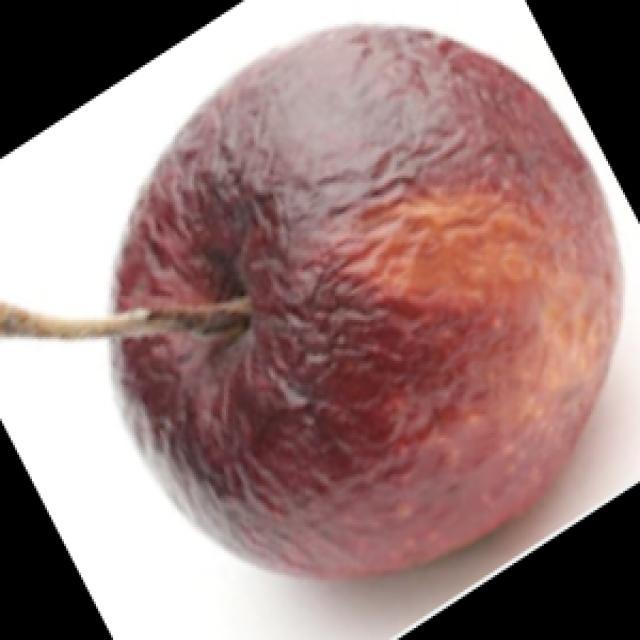Rotten: (110, 40, 588, 563)
